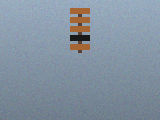defect: (70, 34, 90, 42)
insulator: (68, 6, 92, 54)
